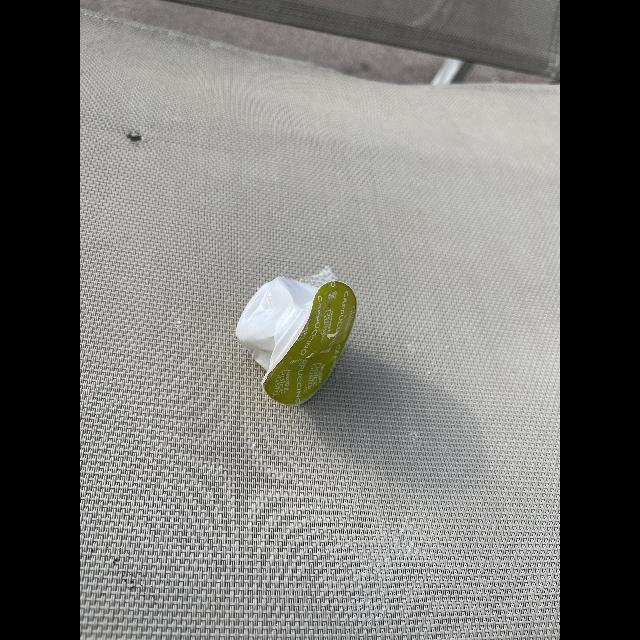damaged_capsule: (234, 275, 366, 407)
